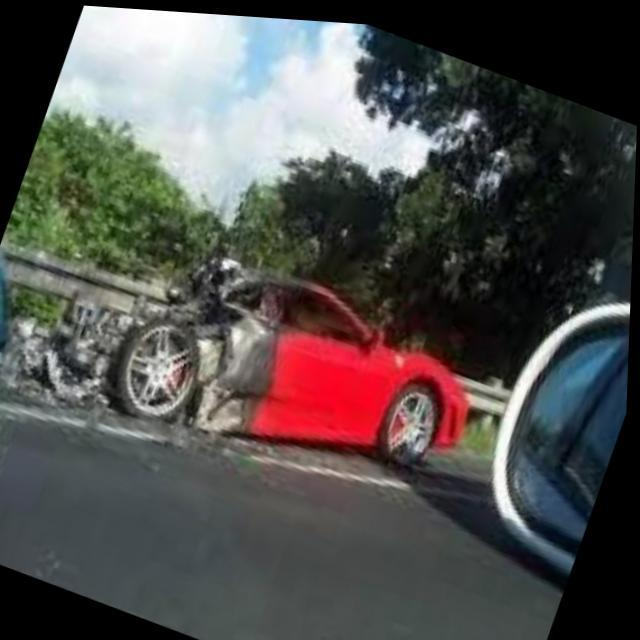crash: (17, 251, 293, 432)
